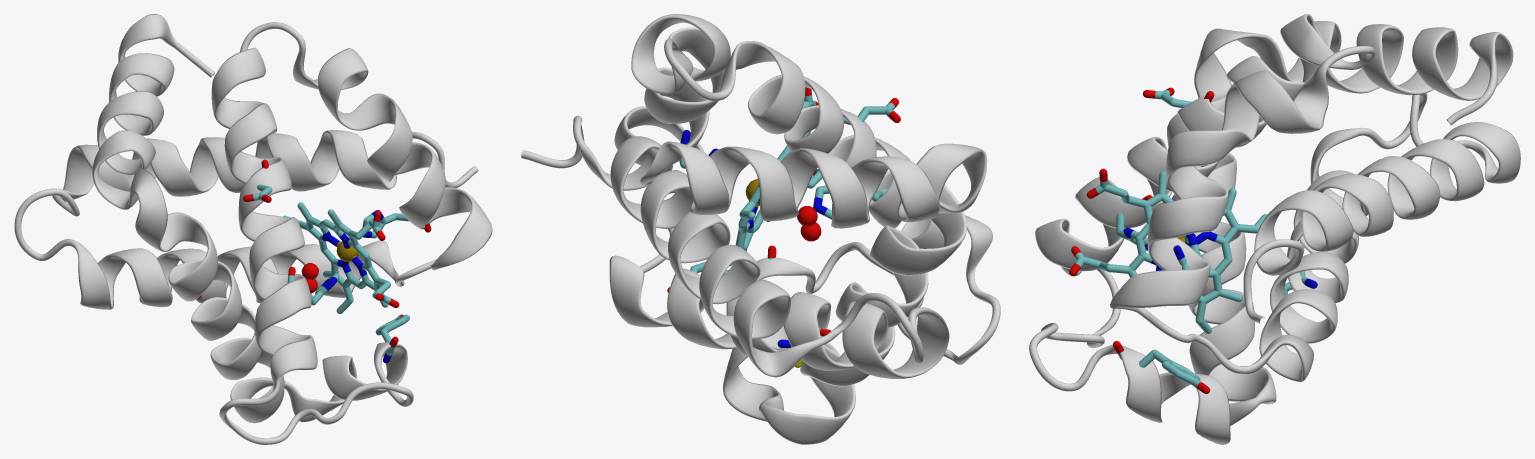
Rendered from frame02.gltf.
The picture shows the model from 3 angles, left to right: view 1: azimuth 30°, elevation 25°; view 2: azimuth 150°, elevation 25°; view 3: azimuth 270°, elevation 25°; orthographic projection. The views are drawn at different scales.
Visible parts, largest first — view 1: vmd_mol2_rep3, vmd_mol2_rep2, vmd_mol2_rep1; view 2: vmd_mol2_rep3, vmd_mol2_rep1, vmd_mol2_rep2, vmd_mol2_rep4; view 3: vmd_mol2_rep3, vmd_mol2_rep2, vmd_mol2_rep1.
Part boxes in pixels (x1=…): vmd_mol2_rep3: x1=14, y1=14, x2=492, y2=444; vmd_mol2_rep2: x1=283, y1=202, x2=399, y2=313; vmd_mol2_rep1: x1=196, y1=159, x2=431, y2=363; vmd_mol2_rep3: x1=521, y1=14, x2=1000, y2=444; vmd_mol2_rep1: x1=667, y1=98, x2=900, y2=367; vmd_mol2_rep2: x1=729, y1=87, x2=822, y2=266; vmd_mol2_rep4: x1=797, y1=206, x2=821, y2=241; vmd_mol2_rep3: x1=1029, y1=14, x2=1520, y2=444; vmd_mol2_rep2: x1=1069, y1=168, x2=1266, y2=333; vmd_mol2_rep1: x1=1113, y1=87, x2=1317, y2=393.
Size of the model in its own units: 1.42 by 1.19 by 1.3.
